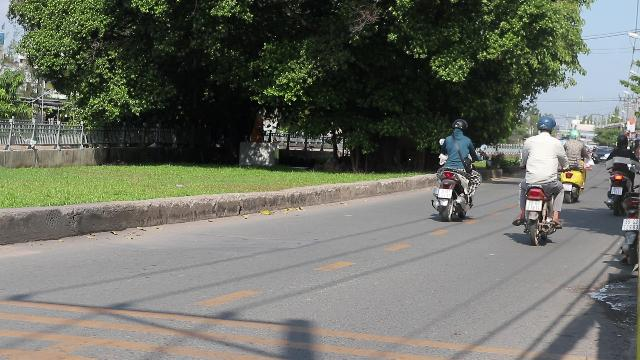helmet: (535, 114, 555, 134), (451, 118, 467, 134)
licenseplate: (622, 218, 638, 230), (526, 200, 542, 210), (438, 188, 452, 198)
motorcyclist: (510, 114, 566, 246), (430, 118, 480, 221)
